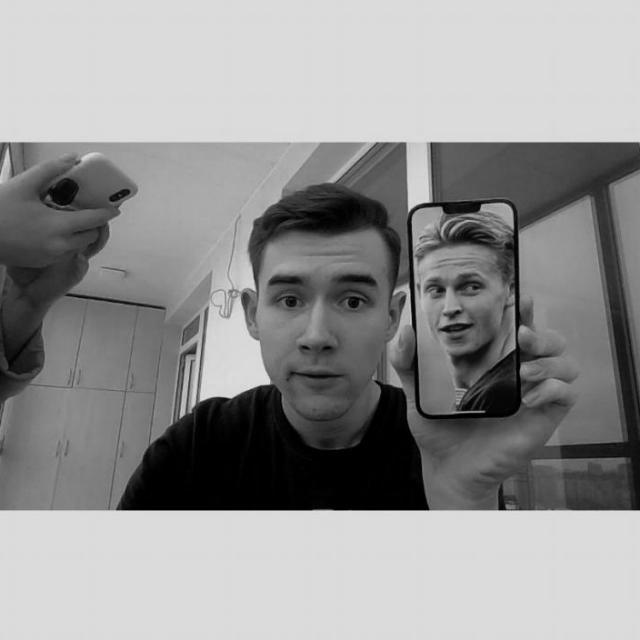fake: (401, 196, 529, 424)
real: (258, 236, 384, 420)
